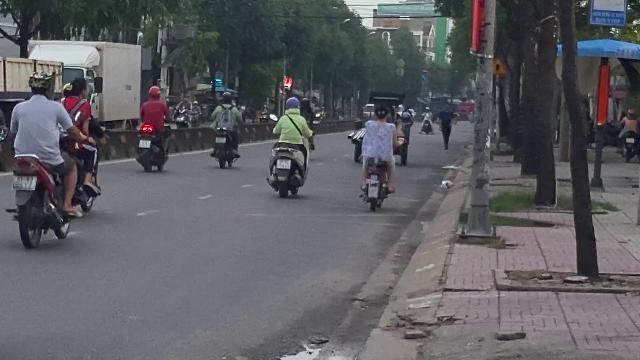helmet: (27, 72, 53, 98), (284, 96, 300, 111), (146, 84, 160, 99)
licenseplate: (12, 175, 36, 189), (276, 160, 290, 168), (138, 140, 150, 148)
motorcyclist: (0, 70, 80, 248), (265, 95, 313, 197), (359, 103, 401, 213), (134, 84, 172, 172)
nohelmet: (67, 77, 89, 99), (372, 104, 388, 124)
